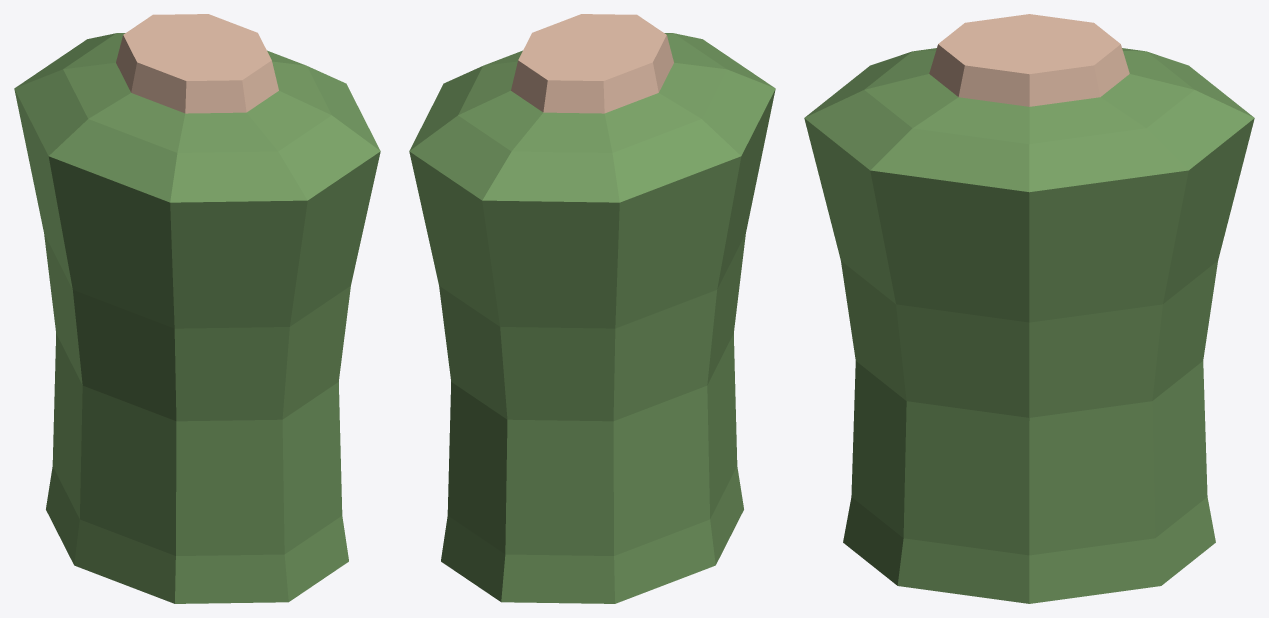
The model's file is Body.fbx.
3 renders of one model, left to right at view 1: azimuth 30°, elevation 25°; view 2: azimuth 150°, elevation 25°; view 3: azimuth 270°, elevation 25°, orthographic. The views are drawn at different scales.
Parts seen in each view (by area): view 1: Cylinder.012; view 2: Cylinder.012; view 3: Cylinder.012.
Boxes of the visible parts, x1,y1,x2,y2 form: Cylinder.012: (14,14,380,603); Cylinder.012: (409,14,775,603); Cylinder.012: (804,14,1254,603).
Size of the model in its own units: 186 by 291 by 239.
